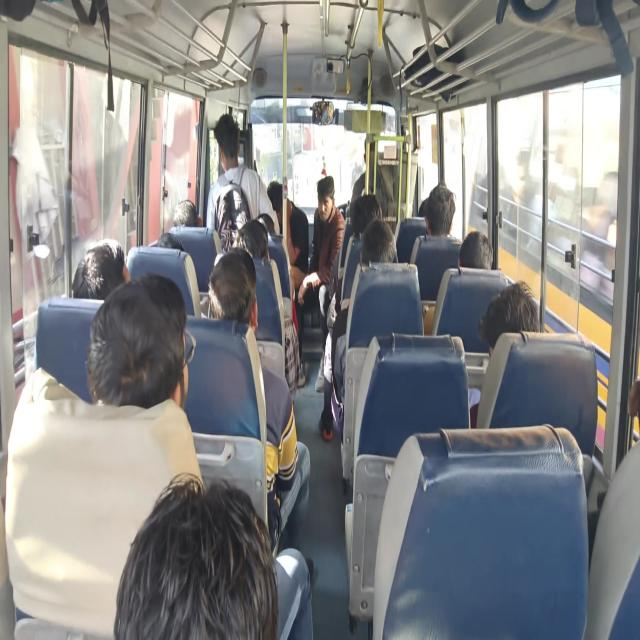person: (5, 272, 204, 638), (205, 247, 311, 554), (113, 472, 279, 639), (330, 218, 398, 442), (86, 276, 188, 410), (232, 219, 300, 403), (468, 280, 541, 428), (296, 174, 345, 390), (205, 113, 280, 252), (478, 279, 540, 356), (266, 180, 309, 290), (409, 182, 460, 264), (71, 238, 131, 300), (423, 182, 457, 239), (232, 218, 269, 260), (458, 230, 493, 269), (172, 199, 199, 227), (150, 231, 183, 249)
